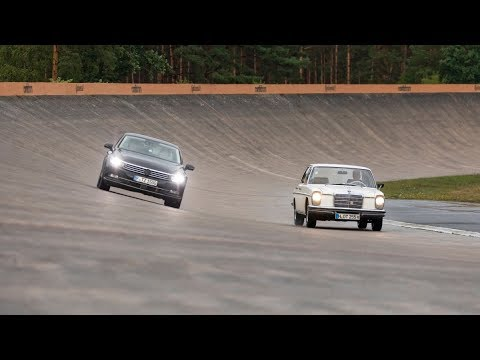car: (86, 119, 200, 217), (280, 150, 396, 239)
